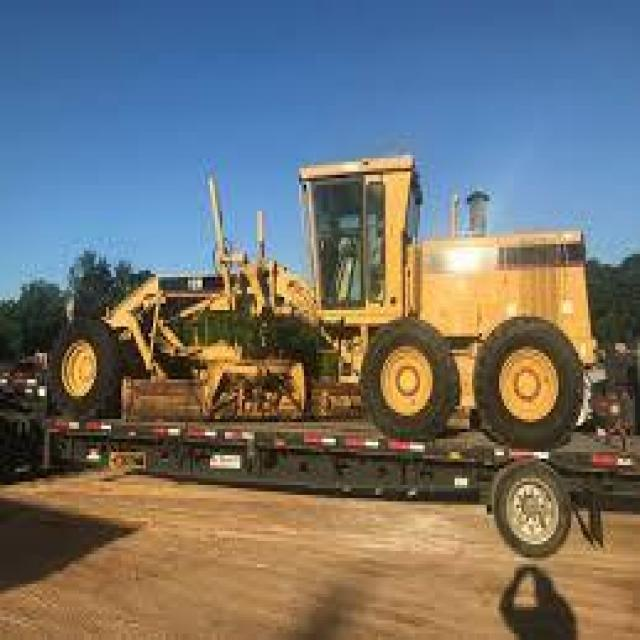Grader: (27, 132, 603, 452)
